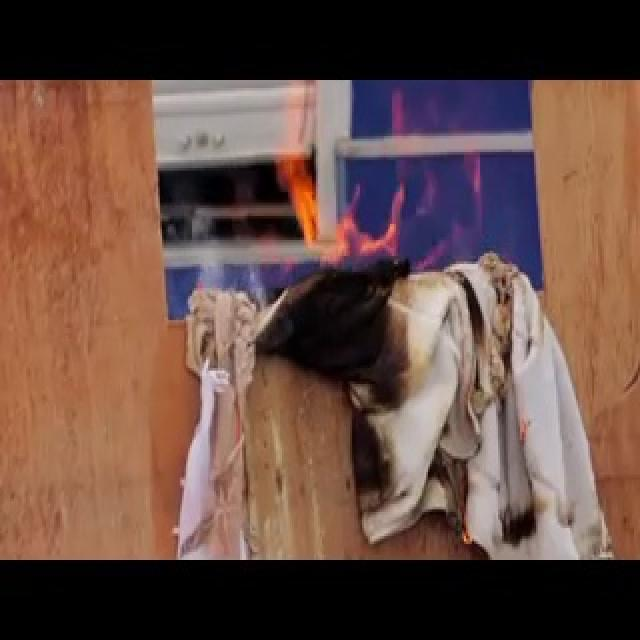Fire: (251, 82, 495, 294)
